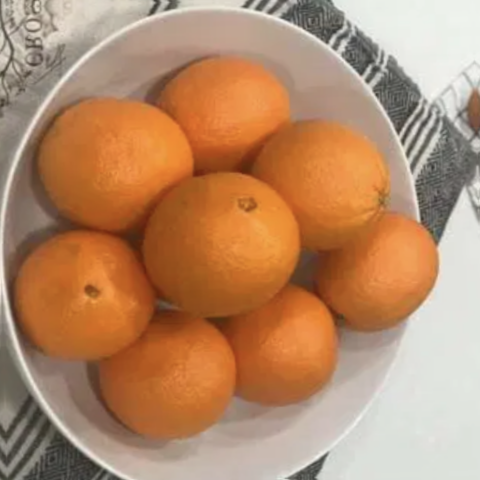orange: (142, 164, 306, 324), (162, 28, 309, 201), (34, 94, 204, 242), (9, 228, 174, 371), (99, 305, 244, 464), (320, 202, 448, 338)
